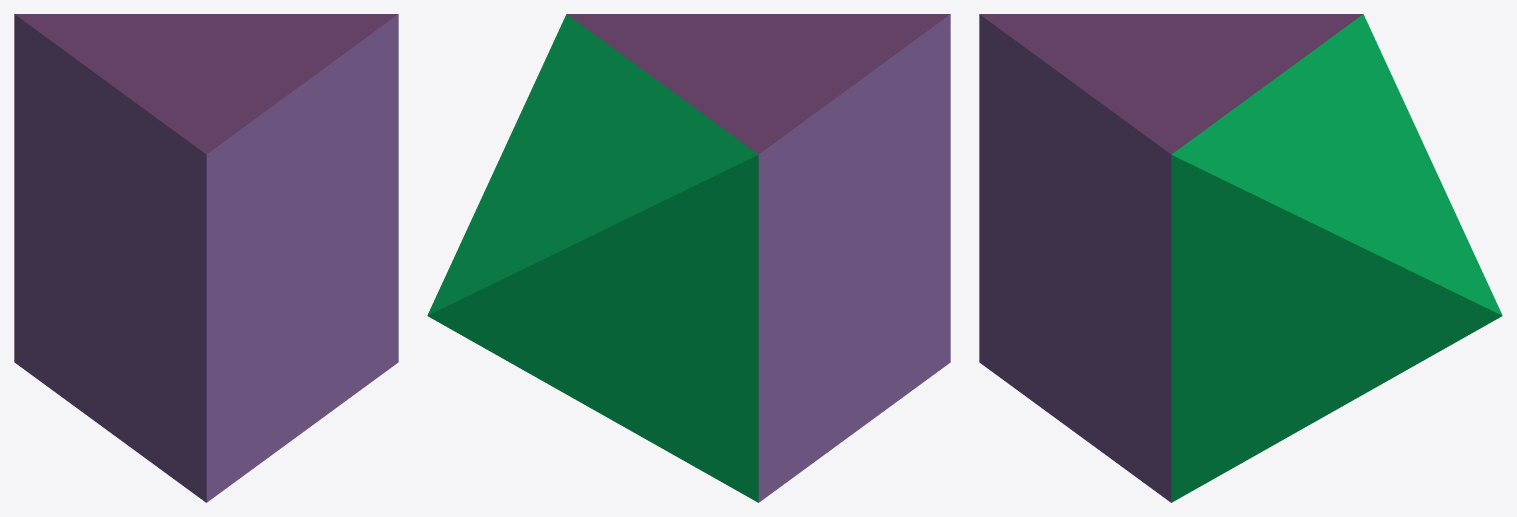
The model's file is J49.PrismaTriangularAumentado.gltf.
3 renders of one model, left to right at view 1: azimuth 30°, elevation 25°; view 2: azimuth 150°, elevation 25°; view 3: azimuth 270°, elevation 25°, orthographic.
Visible parts, largest first — view 1: J49.PrismaTriangularAumentado; view 2: J49.PrismaTriangularAumentado; view 3: J49.PrismaTriangularAumentado.
Part boxes in pixels (x1=…): J49.PrismaTriangularAumentado: x1=14, y1=14, x2=398, y2=502; J49.PrismaTriangularAumentado: x1=427, y1=14, x2=950, y2=502; J49.PrismaTriangularAumentado: x1=979, y1=14, x2=1502, y2=502.
Size of the model in its own units: 8.7 by 10.04 by 13.68.
